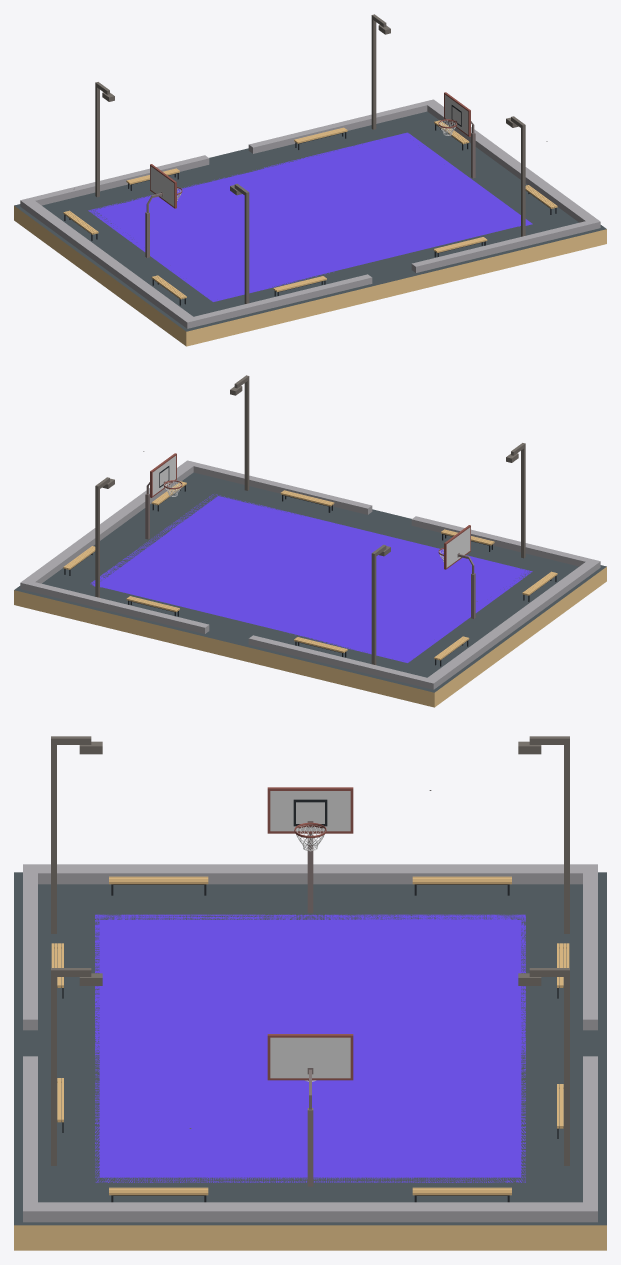
The model's file is basketball.glb.
The picture shows the model from 3 angles, top to bottom: view 1: azimuth 30°, elevation 25°; view 2: azimuth 150°, elevation 25°; view 3: azimuth 270°, elevation 25°; orthographic projection. The views are drawn at different scales.
Visible parts, largest first — view 1: Base.001, Court.001, Light Pillars.001, Benches.001, Basketball_Stand.001; view 2: Base.001, Court.001, Light Pillars.001, Benches.001, Basketball_Stand.001; view 3: Base.001, Court.001, Basketball_Stand.001, Light Pillars.001, Benches.001.
Part boxes in pixels (bbox=[...]): Base.001: bbox=[14, 99, 606, 346]; Court.001: bbox=[88, 132, 532, 301]; Light Pillars.001: bbox=[95, 14, 525, 303]; Benches.001: bbox=[63, 120, 557, 305]; Basketball_Stand.001: bbox=[145, 92, 475, 257]; Base.001: bbox=[14, 451, 606, 707]; Court.001: bbox=[90, 494, 532, 662]; Light Pillars.001: bbox=[95, 375, 525, 664]; Benches.001: bbox=[63, 481, 557, 666]; Basketball_Stand.001: bbox=[145, 453, 475, 618]; Base.001: bbox=[14, 790, 606, 1250]; Court.001: bbox=[95, 914, 525, 1182]; Basketball_Stand.001: bbox=[267, 787, 353, 1186]; Light Pillars.001: bbox=[51, 736, 569, 1165]; Benches.001: bbox=[51, 876, 569, 1202].
Bounding box in the file's own units: 5.79 × 1.69 × 4.11.
